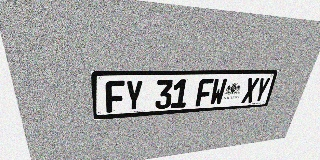1: (171, 79, 189, 108)
3: (155, 79, 173, 109)
F: (105, 80, 125, 113), (195, 79, 214, 106)
W: (209, 78, 228, 106)
X: (241, 78, 260, 103)
Y: (125, 80, 143, 112), (253, 77, 271, 102)
